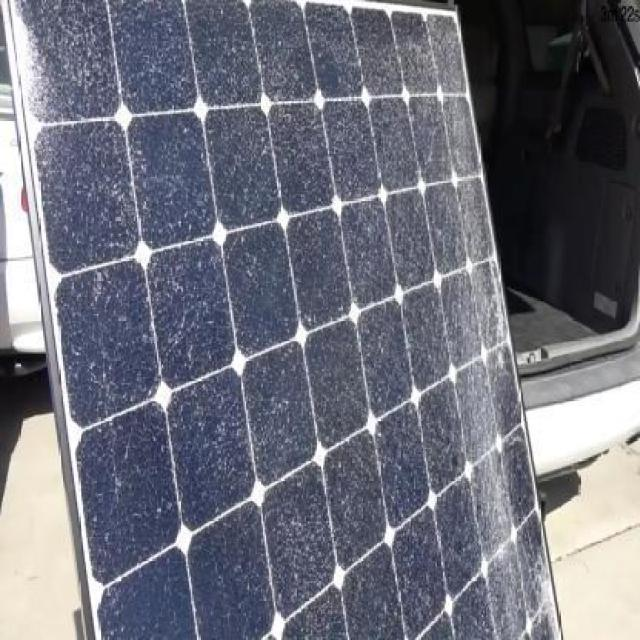cracked: (11, 1, 560, 637)
